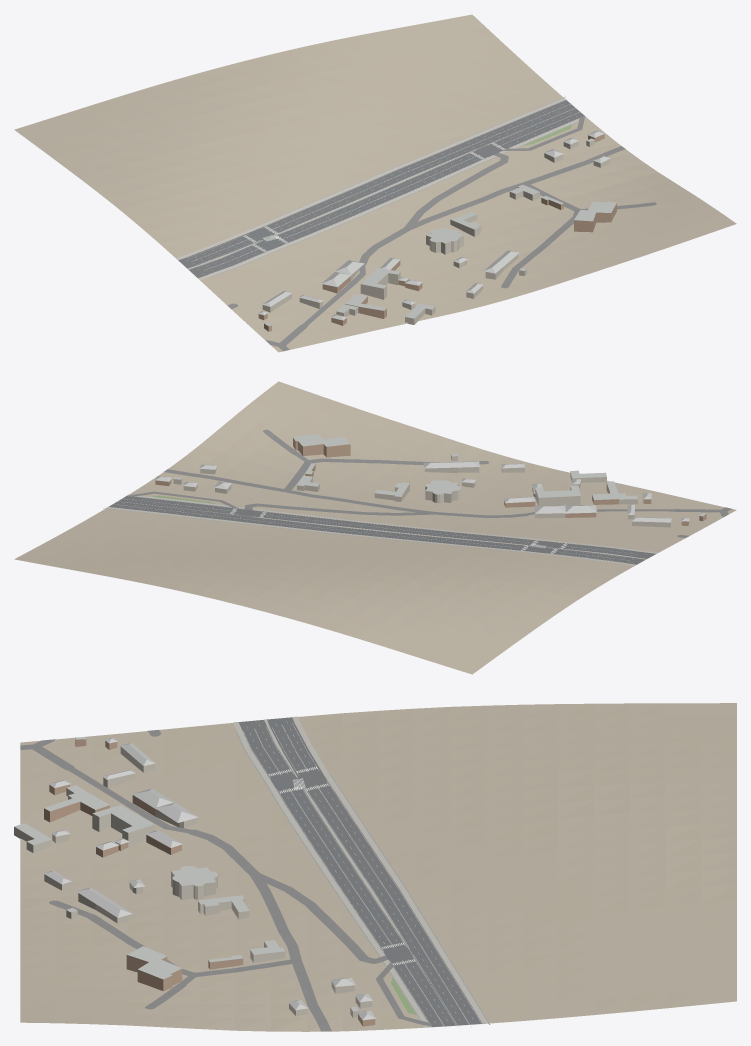
File: bolak_12_-6.glb
3 views of the same model, one above another, from view 1: azimuth 30°, elevation 25°; view 2: azimuth 150°, elevation 25°; view 3: azimuth 270°, elevation 25° (orthographic). The views are drawn at different scales.
Visible parts, largest first — view 1: Yer_Tuproq-col, Yol_Asfalt-col, Yol_Mahalla-col, Tom_Shifer, Trotuar, Devor_Suvoq-col, Devor_Gisht-col, Yol_Chiziq, Ariq; view 2: Yer_Tuproq-col, Yol_Asfalt-col, Tom_Shifer, Yol_Mahalla-col, Devor_Suvoq-col, Trotuar, Devor_Gisht-col, Yol_Chiziq, Ariq; view 3: Yer_Tuproq-col, Yol_Asfalt-col, Tom_Shifer, Yol_Mahalla-col, Devor_Suvoq-col, Trotuar, Devor_Gisht-col, Yol_Chiziq, Ariq.
Boxes of the visible parts, bbox=[...] form: Yer_Tuproq-col: bbox=[14, 14, 736, 352]; Yol_Asfalt-col: bbox=[178, 100, 584, 277]; Yol_Mahalla-col: bbox=[227, 116, 656, 351]; Tom_Shifer: bbox=[258, 130, 616, 326]; Trotuar: bbox=[176, 98, 586, 279]; Devor_Suvoq-col: bbox=[262, 140, 610, 324]; Devor_Gisht-col: bbox=[258, 134, 616, 331]; Yol_Chiziq: bbox=[189, 99, 588, 273]; Ariq: bbox=[212, 96, 577, 276]; Yer_Tuproq-col: bbox=[14, 381, 736, 674]; Yol_Asfalt-col: bbox=[108, 495, 655, 564]; Tom_Shifer: bbox=[155, 434, 706, 522]; Yol_Mahalla-col: bbox=[128, 429, 731, 537]; Devor_Suvoq-col: bbox=[173, 454, 670, 527]; Trotuar: bbox=[106, 494, 657, 565]; Devor_Gisht-col: bbox=[155, 438, 706, 525]; Yol_Chiziq: bbox=[113, 496, 632, 562]; Ariq: bbox=[103, 495, 643, 564]; Yer_Tuproq-col: bbox=[20, 703, 736, 1031]; Yol_Asfalt-col: bbox=[238, 717, 482, 1027]; Tom_Shifer: bbox=[14, 737, 375, 1020]; Yol_Mahalla-col: bbox=[20, 729, 430, 1031]; Devor_Suvoq-col: bbox=[14, 746, 372, 1018]; Trotuar: bbox=[233, 716, 487, 1027]; Devor_Gisht-col: bbox=[44, 738, 375, 1026]; Yol_Chiziq: bbox=[243, 721, 482, 1030]; Ariq: bbox=[236, 732, 490, 1024].
Size of what is drawn, in the model's own units: 405 by 37.84 by 403.
